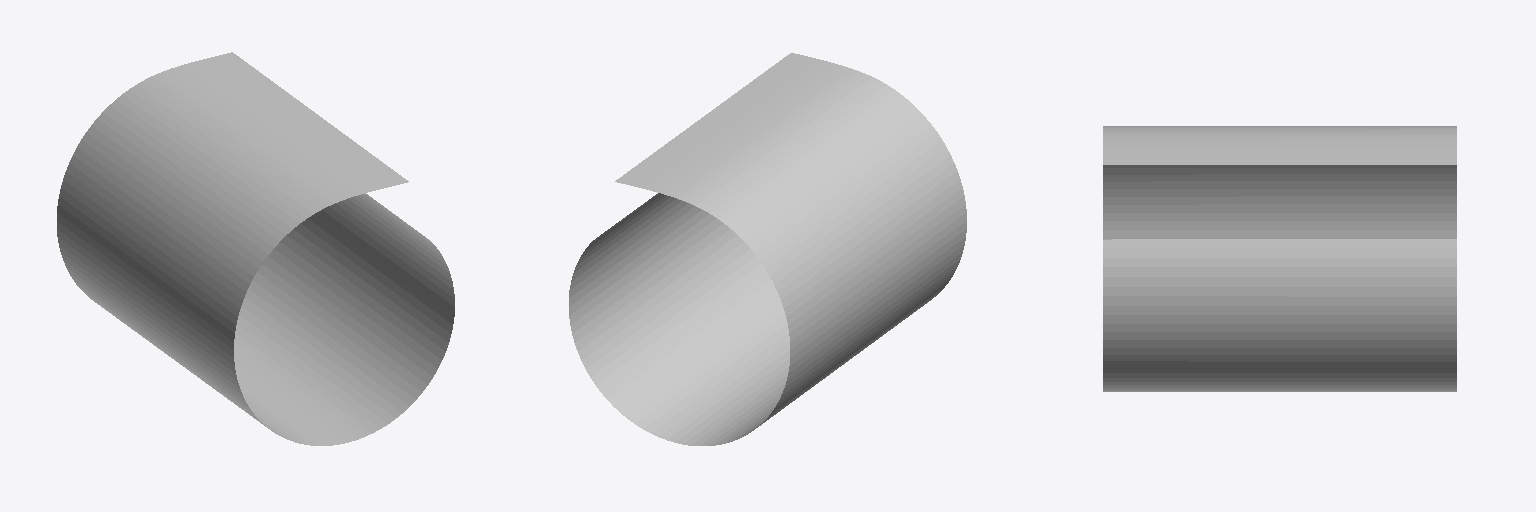
The model's file is CurvePaper_000008.obj.
3 views of the same model, side by side, from view 1: azimuth 30°, elevation 25°; view 2: azimuth 150°, elevation 25°; view 3: azimuth 270°, elevation 25° (orthographic).
Visible parts, largest first — view 1: Plane; view 2: Plane; view 3: Plane.
Part boxes in pixels (bbox=[...]): Plane: bbox=[57, 52, 454, 445]; Plane: bbox=[569, 53, 966, 445]; Plane: bbox=[1103, 126, 1456, 391].
Size of the model in its own units: 1.64 by 1.74 by 2.26.